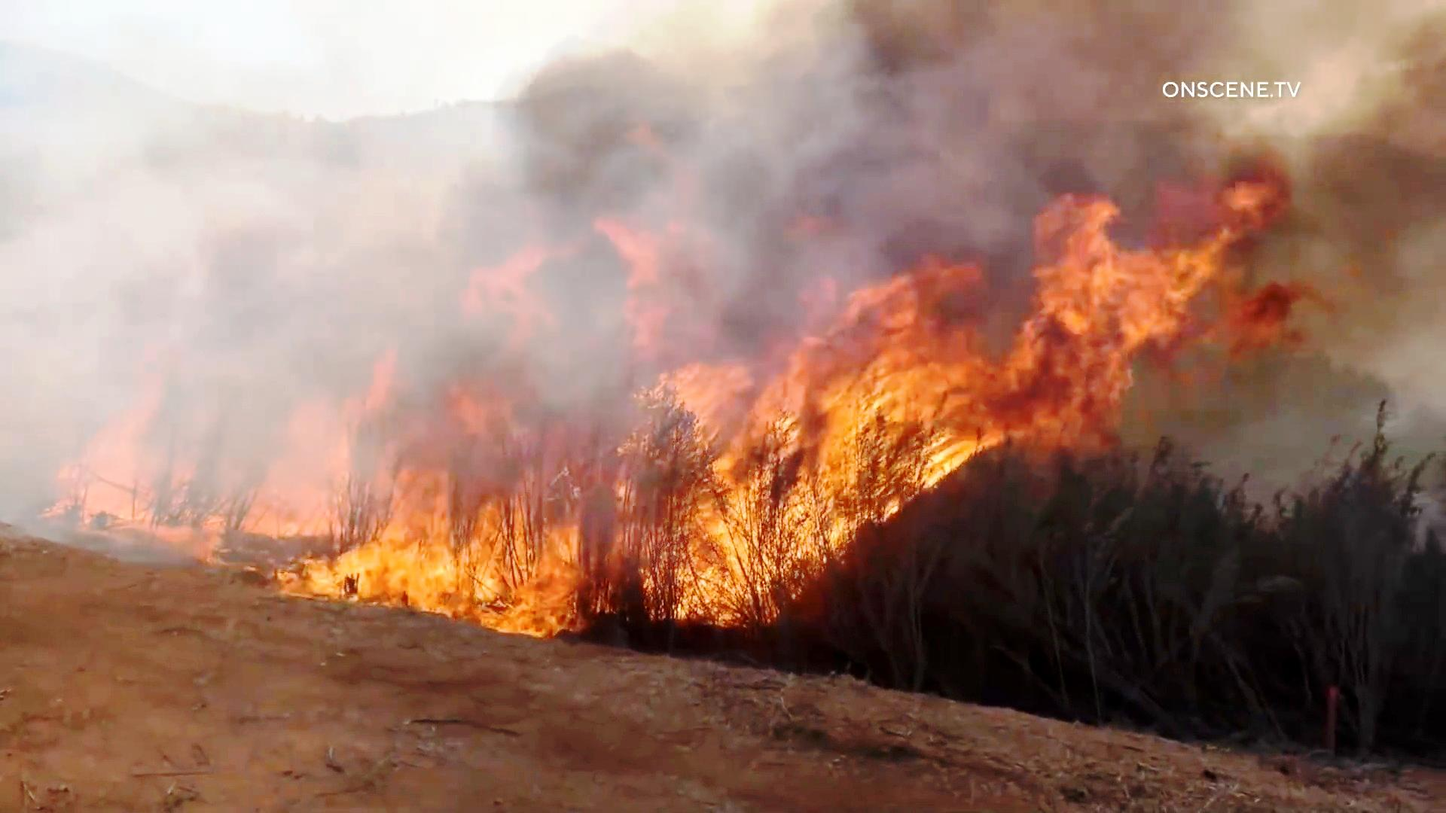fire: (582, 254, 946, 631), (296, 243, 554, 612), (978, 155, 1269, 443)
smoke: (441, 17, 1149, 238), (520, 0, 972, 244), (1294, 14, 1436, 268)
